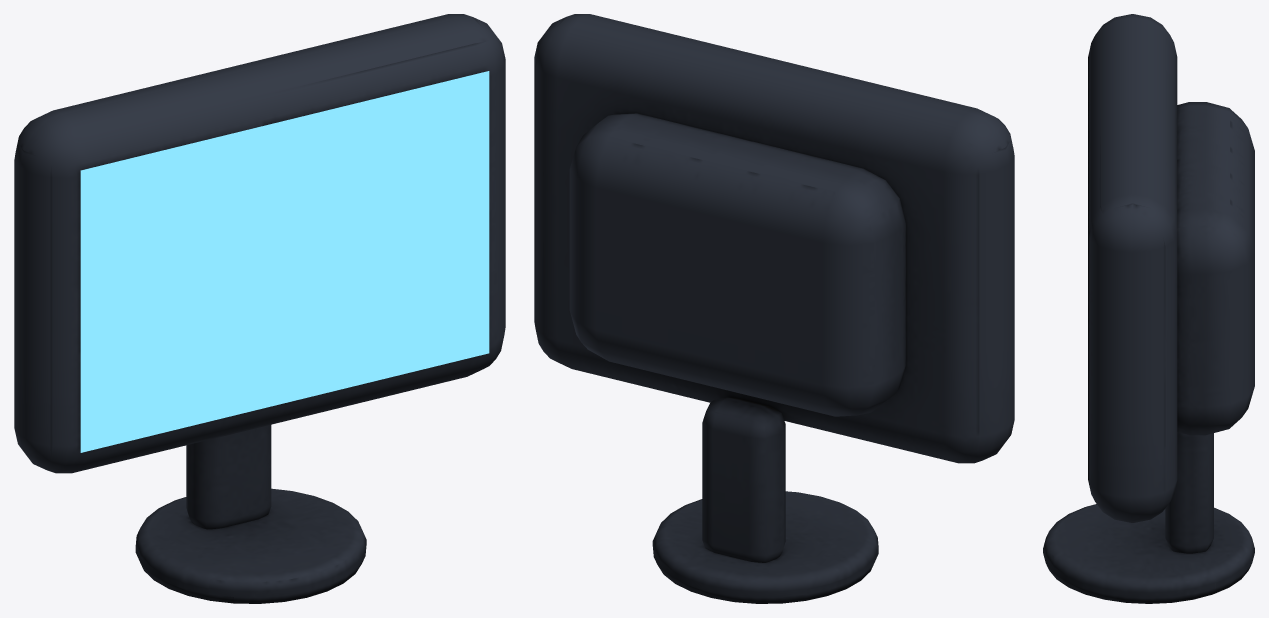
Rendered from monitor.glb.
The picture shows the model from 3 angles, left to right: view 1: azimuth 30°, elevation 25°; view 2: azimuth 150°, elevation 25°; view 3: azimuth 270°, elevation 25°; orthographic projection. The views are drawn at different scales.
Parts seen in each view (by area): view 1: monitor; view 2: monitor; view 3: monitor.
Part boxes in pixels (x1,y1,x2,y2): monitor: (14, 14, 505, 603); monitor: (534, 14, 1014, 603); monitor: (1043, 14, 1254, 603).
Bounding box in the file's own units: 0.62 × 0.62 × 0.26.
Materials: 2 (1 with a texture image).
